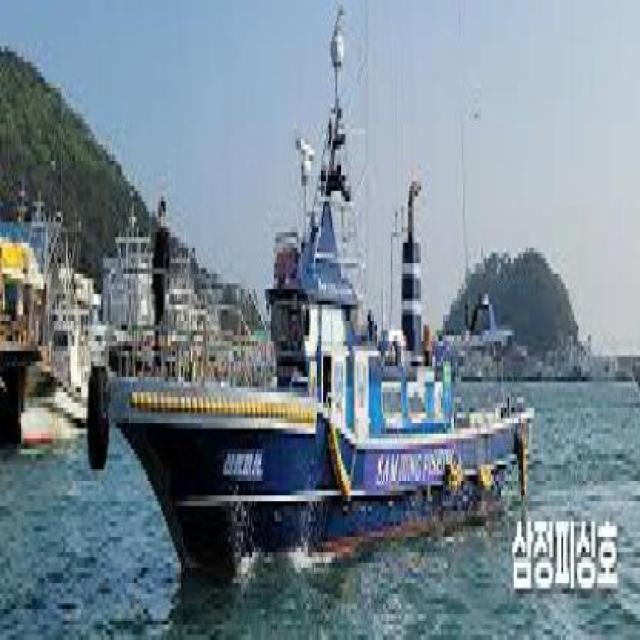fish-b: (79, 1, 558, 615)
